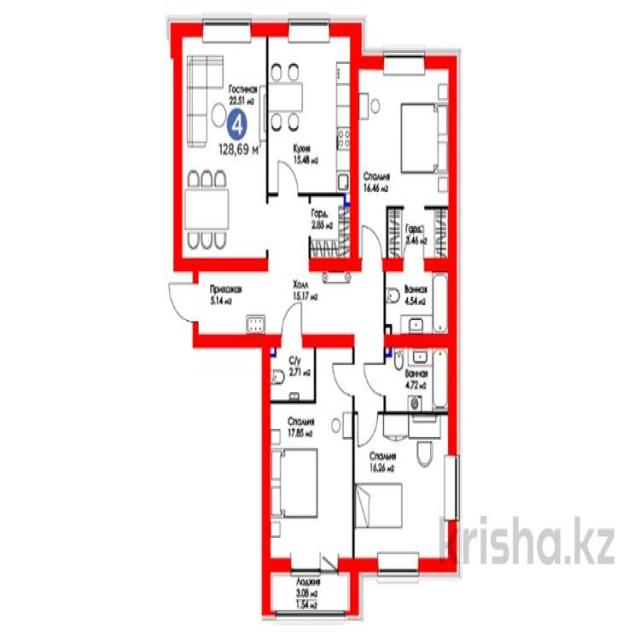balcony: (384, 263, 454, 347), (266, 567, 355, 619)
bathroom: (384, 349, 454, 414), (266, 339, 314, 402)
hallway: (263, 266, 361, 340), (193, 266, 263, 338)
kitchen: (266, 32, 356, 196)
living_room: (171, 23, 266, 268), (352, 414, 452, 566), (264, 403, 352, 567), (354, 65, 454, 206)
other: (388, 208, 453, 262), (309, 193, 356, 265)
